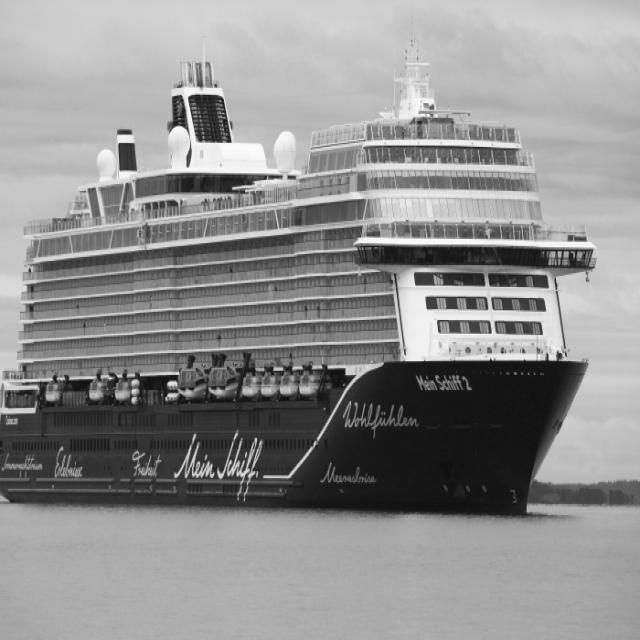cruises: (1, 52, 598, 521)
